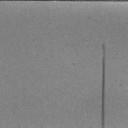surface scratch: (101, 44, 105, 128), (0, 0, 128, 2)
